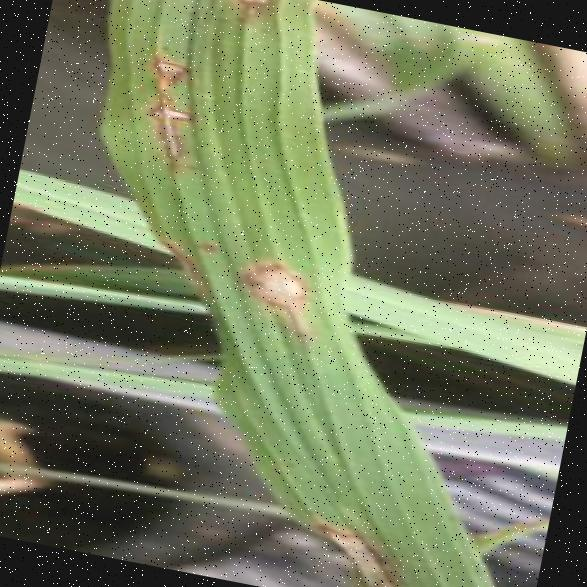Leaf_smut: (222, 218, 342, 356), (120, 210, 262, 326), (284, 490, 414, 587), (110, 25, 232, 120), (128, 80, 222, 170), (216, 0, 290, 28)
